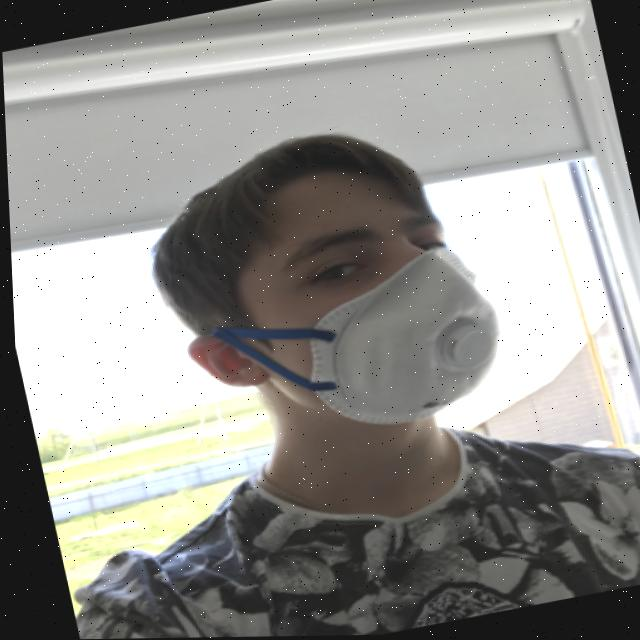Mask: (197, 248, 516, 455)
